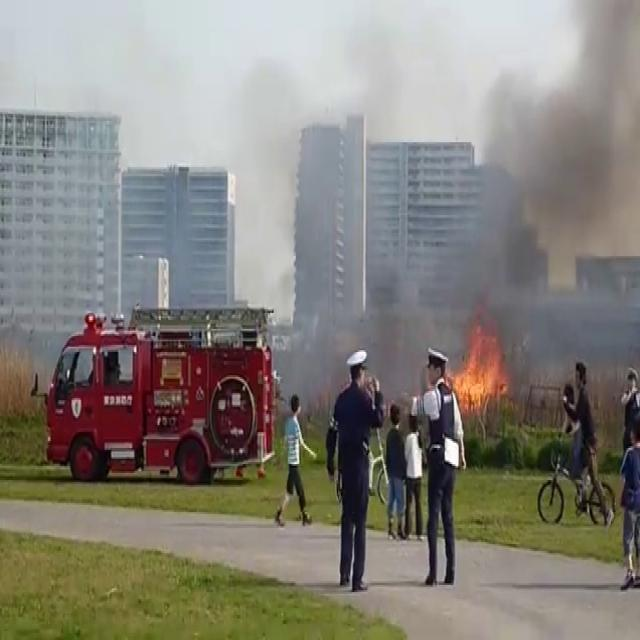Fire: (446, 324, 515, 414)
Smoke: (445, 1, 640, 358)
